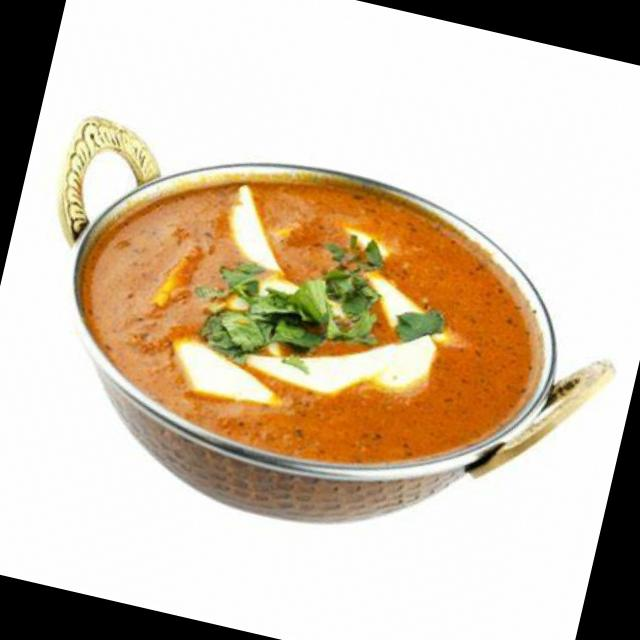ShahiPaneer: (57, 134, 566, 511)
